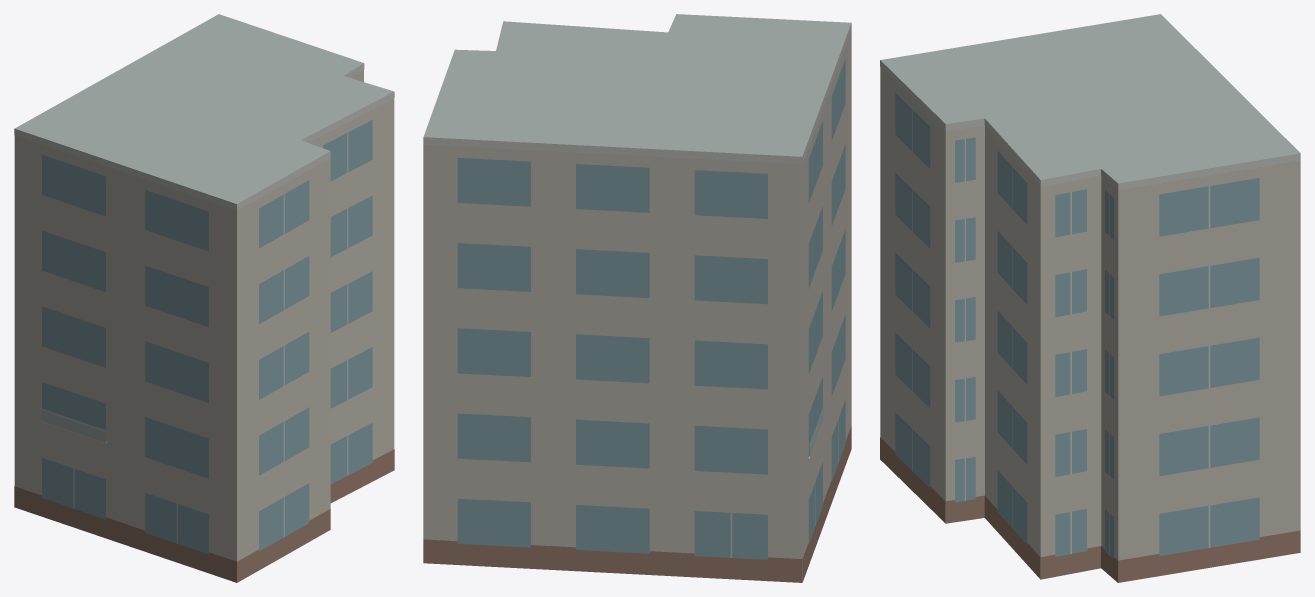
Rendered from survey-upis-32854635.glb.
3 renders of one model, left to right at view 1: azimuth 30°, elevation 25°; view 2: azimuth 150°, elevation 25°; view 3: azimuth 270°, elevation 25°, orthographic. The views are drawn at different scales.
Parts seen in each view (by area): view 1: survey-upis-32854635.tmp; view 2: survey-upis-32854635.tmp; view 3: survey-upis-32854635.tmp.
Boxes of the visible parts, x1,y1,x2,y2 form: survey-upis-32854635.tmp: (14,14,394,582); survey-upis-32854635.tmp: (423,14,851,582); survey-upis-32854635.tmp: (880,14,1300,582).
Bounding box in the file's own units: 12.7 × 13.95 × 13.32.
